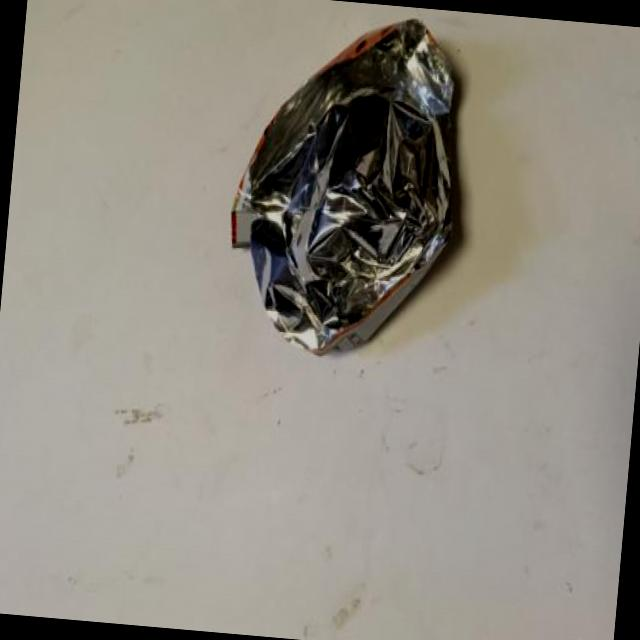Recycle: (220, 2, 470, 368)
